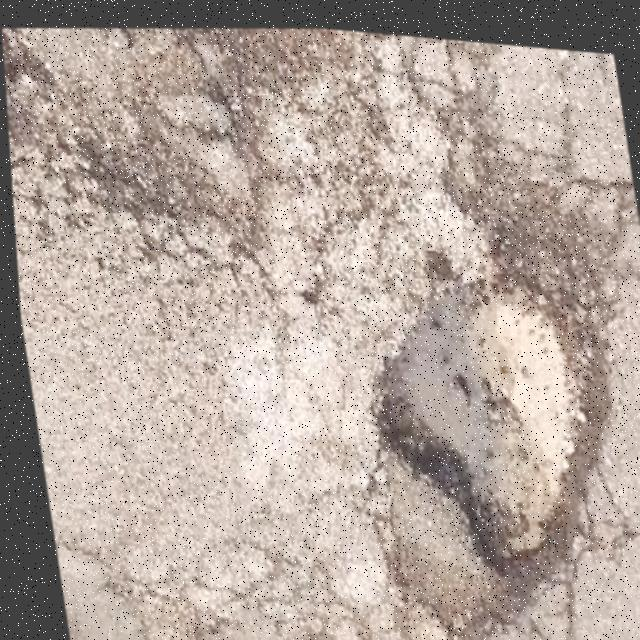pothole: (338, 226, 635, 617)
